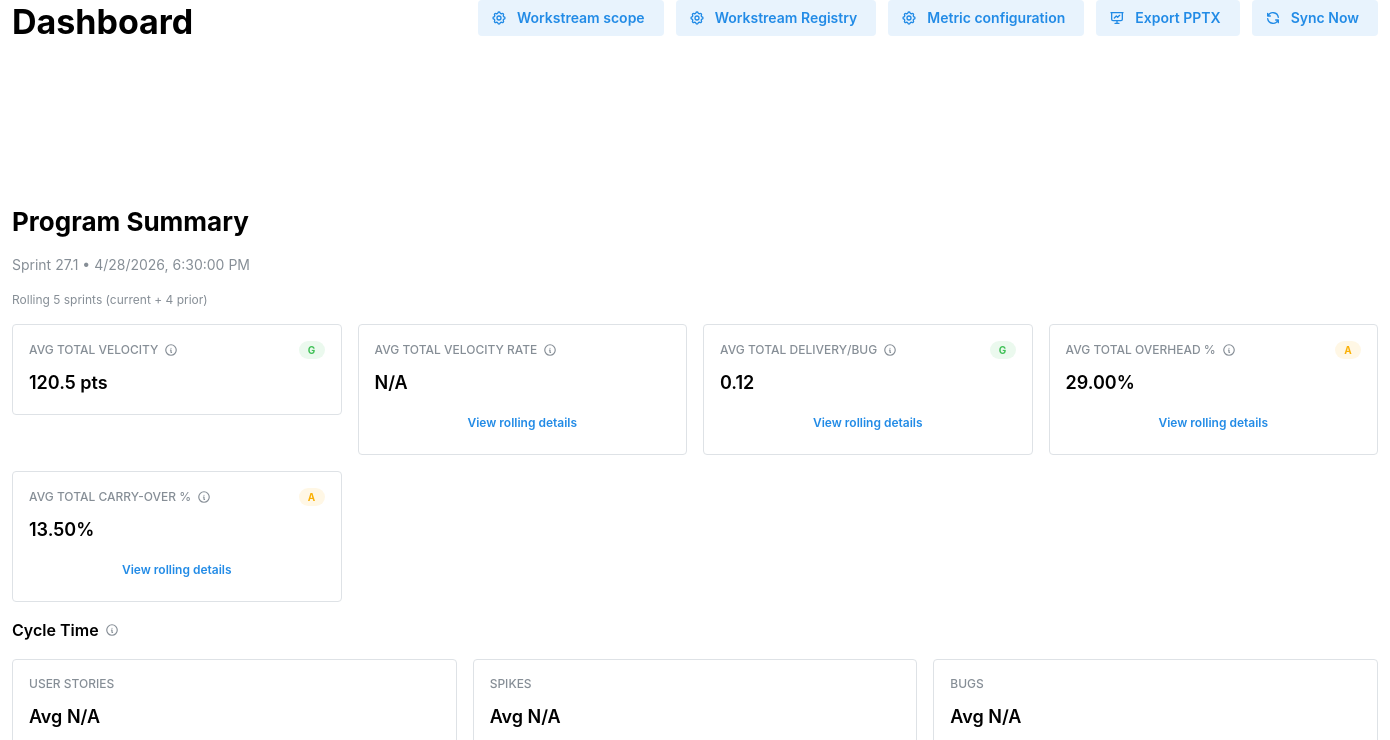
Scenario: DashboardContainer integration › Sync Now flow › refetches milestones after successful sync so new milestones appear in program summary
Expected: the text "Sprint 27.1 • 4/28/2026, 6:30:00 PM" is shown, [12,256,250,273]
Click the button "Sync Now" at (1315, 18), box [1252,0,1378,36]
(page scrolled)
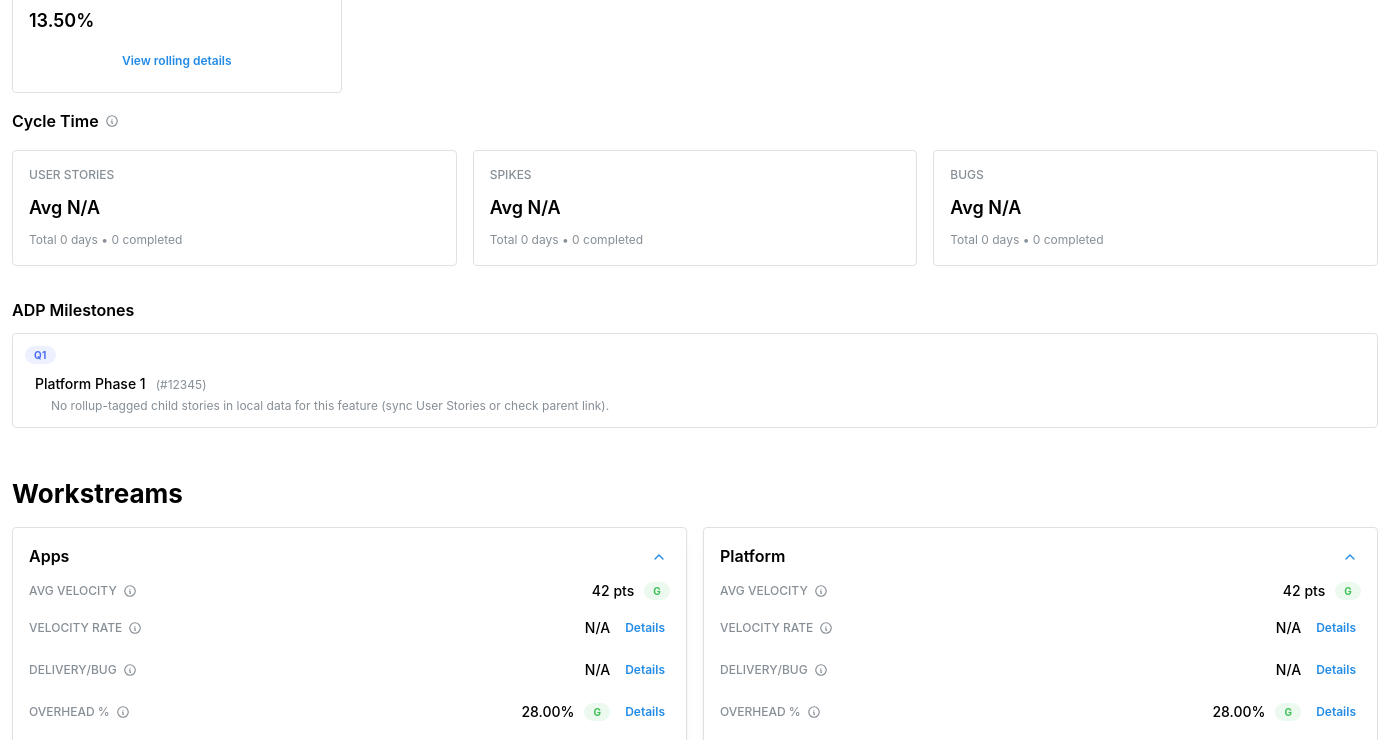
Expected: the element with test id "milestone-quarterly-panel" is shown, [12,333,1378,428]
Expected: the text "Platform Phase 1" is shown, [35,374,146,394]
